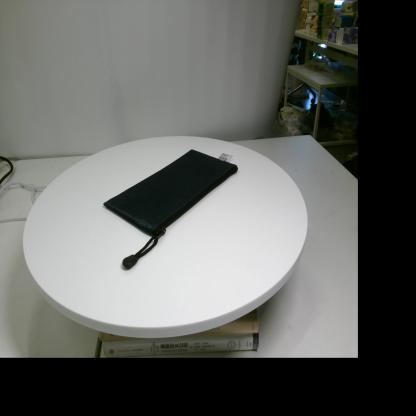Stationery: (103, 150, 238, 270)
